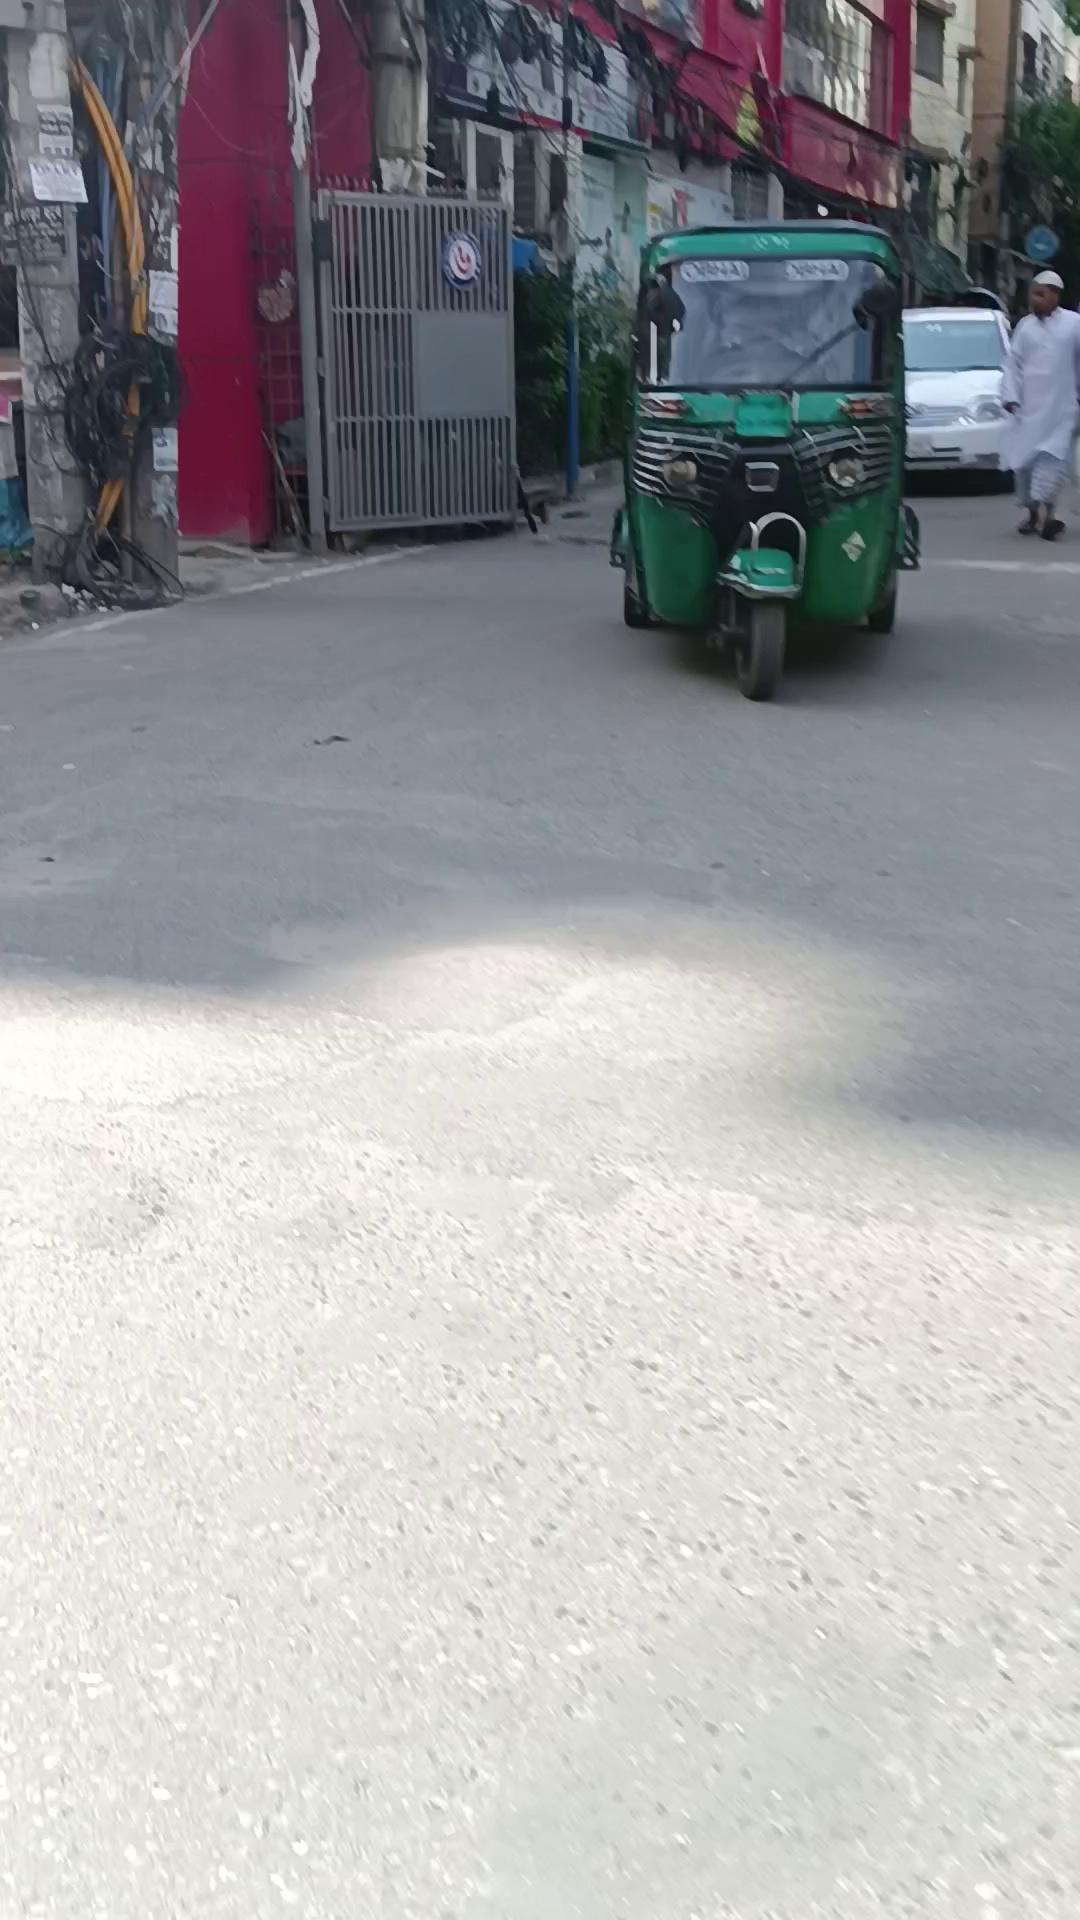Bollard: (899, 305, 1021, 491)
Broken-road: (7, 533, 446, 644)
Curb: (996, 268, 1079, 541)
Dog: (558, 1, 582, 498)
Light-pole: (512, 258, 633, 479)
Muddy road: (615, 222, 928, 707)
Obstacle: (174, 1, 371, 549)
